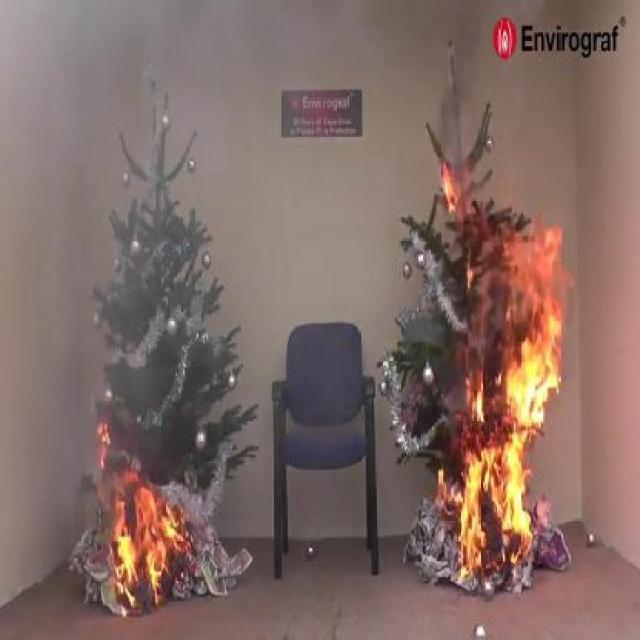fire: (409, 202, 560, 596), (80, 432, 198, 611)
smoke: (30, 66, 292, 386), (413, 59, 521, 176)
